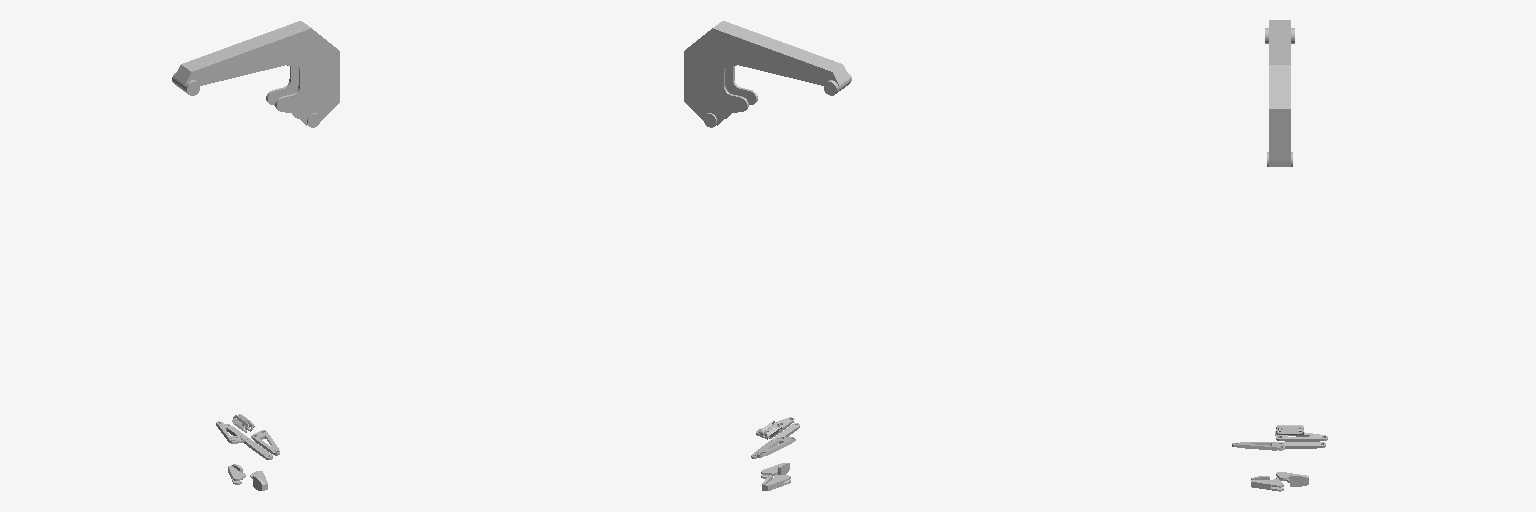
--- Facts derived from the render (not from the file) ---
3 views of the same robot in one strip: view 1: azimuth 30°, elevation 25°; view 2: azimuth 150°, elevation 25°; view 3: azimuth 270°, elevation 25° (orthographic).
Robot: DoubleArmV7-Upper — 46 links, 45 joints (23 revolute, 8 continuous, 1 prismatic, 13 fixed); root link TFRAME; default pose: joints at zero except 1 at the middle of their limits (ARM = 1.6).
Links seen in each view (by area): view 1: MANIARM; view 2: MANIARM; view 3: MANIARM.
Link boxes in pixels (left/top/right/bottom): MANIARM: left=172, top=21, right=339, bottom=127; MANIARM: left=684, top=21, right=851, bottom=127; MANIARM: left=1265, top=20, right=1294, bottom=166.
Size in the robot's own frame: 0.701 by 0.37 by 1.92 metres.
9 mesh visuals loaded from 9 distinct referenced files (9 Collada DAE).

robot.urdf — DoubleArmV7-Upper:
<robot name="DoubleArmV7-Upper">
  <link name="MFRAME">
    <inertial>
      <mass value="1e-06" />
      <origin xyz="0 0 0" rpy="0 -0 0" />
      <inertia ixx="1.0" ixy="0.0" ixz="0.0" iyy="1.0" iyz="0.0" izz="1.0" />
    </inertial>
  </link>
  <link name="BLOCK">
    <inertial>
      <mass value="1e-06" />
      <origin xyz="0 0 0" rpy="0 -0 0" />
      <inertia ixx="1.0" ixy="0.0" ixz="0.0" iyy="1.0" iyz="0.0" izz="1.0" />
    </inertial>
  </link>
  <link name="BOOM">
    <inertial>
      <mass value="88.2695650987" />
      <origin xyz="-0.831227871921433 0.142962825496583 0.0" rpy="0 -0 0" />
      <inertia ixx="1.48138597730672" ixy="0.1902362002908" ixz="1.05546586084014e-15" iyy="31.4435403431583" iyz="-2.05305944696362e-17" izz="32.5752155940256" />
    </inertial>
    <collision>
      <origin xyz="0.0 0.0 0.0" rpy="1.57079632679 0.375245789179 -3.14159265359" />
      <geometry>
        <cylinder radius="0.05" length="0.116" />
      </geometry>
    </collision>
    <collision>
      <origin xyz="0.4186879055919116 -1.9907224074340133e-16 0.16492555202593392" rpy="1.13579022766e-16 -0.375245789179 3.14159265359" />
      <geometry>
        <box size="0.9 0.116 0.1" />
      </geometry>
    </collision>
    <collision>
      <origin xyz="0.40419402094470985 -2.1228539612808136e-16 0.1948991622161264" rpy="3.02966782347e-17 -0.449422282389 3.14159265359" />
      <geometry>
        <box size="0.895 0.116 0.1" />
      </geometry>
    </collision>
    <collision>
      <origin xyz="1.1879713766505169 -4.354270489073068e-16 0.18116085136942053" rpy="8.75683157457e-17 -0.296705972839 3.14159265359" />
      <geometry>
        <box size="0.899 0.116 0.09" />
      </geometry>
    </collision>
    <collision>
      <origin xyz="1.1953232786166952 -4.750760030961959e-16 0.22230935726550022" rpy="1.15686232084e-16 -0.381354441561 3.14159265359" />
      <geometry>
        <box size="0.92 0.116 0.09" />
      </geometry>
    </collision>
    <collision>
      <origin xyz="1.7600000000000025 -0.05325000000000048 2.3733810657253497e-16" rpy="1.57079632679 -0.296705972839 3.14159265359" />
      <geometry>
        <cylinder radius="0.04" length="0.0095" />
      </geometry>
    </collision>
    <collision>
      <origin xyz="1.6834956195229596 -0.05325000000000048 0.023389736377819183" rpy="8.75683157457e-17 -0.296705972839 3.14159265359" />
      <geometry>
        <box size="0.16 0.0095 0.08" />
      </geometry>
    </collision>
    <collision>
      <origin xyz="1.68568840730838 -0.053250000000000484 0.030562022047541958" rpy="1.16593465255e-16 -0.383972435439 3.14159265359" />
      <geometry>
        <box size="0.16 0.0095 0.08" />
      </geometry>
    </collision>
    <collision>
      <origin xyz="1.7600000000000025 0.05324999999999962 1.9373756672733388e-16" rpy="1.57079632679 -0.296705972839 3.14159265359" />
      <geometry>
        <cylinder radius="0.04" length="0.0095" />
      </geometry>
    </collision>
    <collision>
      <origin xyz="1.6834956195229596 0.05324999999999962 0.023389736377819142" rpy="8.75683157457e-17 -0.296705972839 3.14159265359" />
      <geometry>
        <box size="0.16 0.0095 0.08" />
      </geometry>
    </collision>
    <collision>
      <origin xyz="1.68568840730838 0.05324999999999961 0.030562022047541916" rpy="1.16593465255e-16 -0.383972435439 3.14159265359" />
      <geometry>
        <box size="0.16 0.0095 0.08" />
      </geometry>
    </collision>
  </link>
  <link name="ARM">
    <inertial>
      <mass value="53.7797060658" />
      <origin xyz="-0.133362844584537 0.0813367709948192 0.0" rpy="0 -0 0" />
      <inertia ixx="0.35420506763418" ixy="-0.59676584437886" ixz="1.78134245842626e-16" iyy="5.16579159038522" iyz="6.97110293472855e-17" izz="5.39850890239257" />
    </inertial>
    <collision>
      <origin xyz="-0.24300000000000033 -1.5533242026099217e-17 0.08450000000000005" rpy="1.57079632679 -0.336848545635 3.14159265359" />
      <geometry>
        <cylinder radius="0.0296" length="0.083" />
      </geometry>
    </collision>
    <collision>
      <origin xyz="-0.11936207534259712 -7.359996381010075e-18 0.04120261455456779" rpy="2.17510348387e-17 -0.336848545635 3.14159265359" />
      <geometry>
        <box size="0.262 0.083 0.0592" />
      </geometry>
    </collision>
    <collision>
      <origin xyz="-0.09103700321555463 -6.195145466645663e-17 0.09485604211514259" rpy="2.17510348387e-17 -0.336848545635 3.14159265359" />
      <geometry>
        <box size="0.14 0.083 0.07" />
      </geometry>
    </collision>
    <collision>
      <origin xyz="-0.09112686398426773 -1.2057425648815144e-16 0.16088422976470257" rpy="1.46430338297e-16 -0.466002910282 3.14159265359" />
      <geometry>
        <box size="0.34 0.083 0.0592" />
      </geometry>
    </collision>
    <collision>
      <origin xyz="0.05700000000000005 -2.233934448755695e-16 0.23580000000000023" rpy="1.57079632679 -1.02101761242 3.14159265359" />
      <geometry>
        <cylinder radius="0.0296" length="0.083" />
      </geometry>
    </collision>
    <collision>
      <origin xyz="0.03581365767610803 -1.1292183821525238e-16 0.11726250003085589" rpy="1.14524417827e-16 -1.02101761242 3.14159265359" />
      <geometry>
        <box size="0.18 0.083 0.2192" />
      </geometry>
    </collision>
    <collision>
      <origin xyz="0.47950000000000065 -1.174436280382313e-16 5.898059818321144e-17" rpy="0.0 -0.0 3.14159265359" />
      <geometry>
        <box size="0.971 0.083 0.06" />
      </geometry>
    </collision>
    <collision>
      <origin xyz="0.12400000000000017 -6.589837740685943e-17 0.04000000000000006" rpy="0.0 -0.0 3.14159265359" />
      <geometry>
        <box size="0.4 0.083 0.06" />
      </geometry>
    </collision>
    <collision>
      <origin xyz="0.9650000000000013 -2.363568322354394e-16 1.1817841611771973e-16" rpy="1.57079632679 -0.0872664625993 3.14159265359" />
      <geometry>
        <cylinder radius="0.03" length="0.083" />
      </geometry>
    </collision>
    <collision>
      <origin xyz="0.4813474740764582 -1.5547861078879205e-16 0.04231411310398813" rpy="-1.40826537065e-17 -0.0872664625997 -3.14159265359" />
      <geometry>
        <box size="0.971 0.083 0.06" />
      </geometry>
    </collision>
  </link>
  <link name="TOHKU_PITCH">
    <inertial>
      <mass value="1e-06" />
      <origin xyz="0 0 0" rpy="0 -0 0" />
      <inertia ixx="1.0" ixy="0.0" ixz="0.0" iyy="1.0" iyz="0.0" izz="1.0" />
    </inertial>
  </link>
  <link name="TOHKU_ROLL">
    <inertial>
      <mass value="1e-06" />
      <origin xyz="0 0 0" rpy="0 -0 0" />
      <inertia ixx="1.0" ixy="0.0" ixz="0.0" iyy="1.0" iyz="0.0" izz="1.0" />
    </inertial>
  </link>
  <link name="TOHKU_TIP_01">
    <inertial>
      <mass value="1e-06" />
      <origin xyz="0 0 0" rpy="0 -0 0" />
      <inertia ixx="1.0" ixy="0.0" ixz="0.0" iyy="1.0" iyz="0.0" izz="1.0" />
    </inertial>
  </link>
  <link name="TOHKU_TIP_02">
    <inertial>
      <mass value="1e-06" />
      <origin xyz="0 0 0" rpy="0 -0 0" />
      <inertia ixx="1.0" ixy="0.0" ixz="0.0" iyy="1.0" iyz="0.0" izz="1.0" />
    </inertial>
  </link>
  <link name="UFRAME">
    <inertial>
      <mass value="1e-06" />
      <origin xyz="0 0 0" rpy="0 -0 0" />
      <inertia ixx="1.0" ixy="0.0" ixz="0.0" iyy="1.0" iyz="0.0" izz="1.0" />
    </inertial>
  </link>
  <link name="MNP_SWING">
    <inertial>
      <mass value="1e-06" />
      <origin xyz="0 0 0" rpy="0 -0 0" />
      <inertia ixx="1.0" ixy="0.0" ixz="0.0" iyy="1.0" iyz="0.0" izz="1.0" />
    </inertial>
  </link>
  <link name="MANIBOOM">
    <inertial>
      <mass value="36.291074" />
      <origin xyz="-0.7599574 0.016703571 0.0" rpy="0 -0 0" />
      <inertia ixx="0.11028539" ixy="0.04398908" ixz="0.0" iyy="7.0046174" iyz="0.0" izz="6.9737013" />
    </inertial>
    <collision>
      <origin xyz="0.0 0.0 0.0" rpy="3.14159265359 1.22464679915e-16 3.14159265359" />
      <geometry>
        <cylinder radius="0.035" length="0.18" />
      </geometry>
    </collision>
    <collision>
      <origin xyz="0.09360186960740366 0.41357191636521845 -3.813787642366294e-16" rpy="1.57079632679 -9.74498259865e-14 2.93128047872" />
      <geometry>
        <box size="0.07 0.115 0.849" />
      </geometry>
    </collision>
    <collision>
      <origin xyz="0.13449564031850803 1.0875085889329599 -9.917384094630197e-16" rpy="1.57079632679 1.72251102271e-13 -2.98887634404" />
      <geometry>
        <box size="0.08 0.115 0.55" />
      </geometry>
    </collision>
    <collision>
      <origin xyz="0.017373789739834413 0.22015174637071627 -1.997831702439419e-16" rpy="1.57079632679 -1.69711467102e-13 2.97578637465" />
      <geometry>
        <box size="0.03 0.115 0.4" />
      </geometry>
    </collision>
    <collision>
      <origin xyz="0.07702917045091942 0.5975639454389267 -5.452515119623752e-16" rpy="1.57079632679 -1.69681976803e-12 3.08923277603" />
      <geometry>
        <box size="0.08 0.115 0.5" />
      </geometry>
    </collision>
    <collision>
      <origin xyz="0.0860000000000008 1.0775000000000017 -9.779052824825384e-16" rpy="1.57079632679 1.34266957257e-15 3.14159265359" />
      <geometry>
        <box size="0.08 0.115 0.575" />
      </geometry>
    </collision>
    <collision>
      <origin xyz="0.13600000000000073 0.7900000000000013 -7.242432995517537e-16" rpy="1.57079632679 1.34266957257e-15 3.14159265359" />
      <geometry>
        <box size="0.05 0.115 0.2" />
      </geometry>
    </collision>
    <collision>
      <origin xyz="0.01300000000000049 0.8170000000000014 -0.05125000000000081" rpy="3.14159265359 1.22464679915e-16 3.14159265359" />
      <geometry>
        <cylinder radius="0.05" length="0.0125" />
      </geometry>
    </collision>
    <collision>
      <origin xyz="-0.011999999999999594 0.7480000000000013 -0.051250000000000746" rpy="3.14159265359 1.22464679915e-16 3.14159265359" />
      <geometry>
        <cylinder radius="0.045" length="0.0125" />
      </geometry>
    </collision>
    <collision>
      <origin xyz="0.03600000000000049 0.7250000000000013 -0.051250000000000726" rpy="1.57079632679 1.08801856413e-14 -2.53072741539" />
      <geometry>
        <box size="0.08 0.0125 0.15" />
      </geometry>
    </collision>
    <collision>
      <origin xyz="0.04600000000000061 0.9000000000000016 -0.051250000000000885" rpy="1.57079632679 -1.54140589181e-13 2.96705972839" />
      <geometry>
        <box size="0.04 0.0125 0.15" />
      </geometry>
    </collision>
    <collision>
      <origin xyz="-0.0269999999999996 0.7900000000000014 -0.05125000000000078" rpy="1.57079632679 -9.51877465738e-14 2.91469985083" />
      <geometry>
        <box size="0.02 0.0125 0.03" />
      </geometry>
    </collision>
    <collision>
      <origin xyz="0.01300000000000049 0.8170000000000012 0.05124999999999934" rpy="3.14159265359 1.22464679915e-16 3.14159265359" />
      <geometry>
        <cylinder radius="0.05" length="0.0125" />
      </geometry>
    </collision>
    <collision>
      <origin xyz="-0.011999999999999594 0.7480000000000011 0.0512499999999994" rpy="3.14159265359 1.22464679915e-16 3.14159265359" />
      <geometry>
        <cylinder radius="0.045" length="0.0125" />
      </geometry>
    </collision>
    <collision>
      <origin xyz="0.03600000000000049 0.7250000000000011 0.05124999999999942" rpy="1.57079632679 1.08801856413e-14 -2.53072741539" />
      <geometry>
        <box size="0.08 0.0125 0.15" />
      </geometry>
    </collision>
    <collision>
      <origin xyz="0.04600000000000061 0.9000000000000014 0.05124999999999926" rpy="1.57079632679 -1.54140589181e-13 2.96705972839" />
      <geometry>
        <box size="0.04 0.0125 0.15" />
      </geometry>
    </collision>
    <collision>
      <origin xyz="-0.0269999999999996 0.7900000000000011 0.051249999999999366" rpy="1.57079632679 -9.51877465738e-14 2.91469985083" />
      <geometry>
        <box size="0.02 0.0125 0.03" />
      </geometry>
    </collision>
    <collision>
      <origin xyz="0.08000000000000103 1.4800000000000024 -0.060000000000001434" rpy="3.14159265359 1.22464679915e-16 3.14159265359" />
      <geometry>
        <cylinder radius="0.035" length="0.014" />
      </geometry>
    </collision>
    <collision>
      <origin xyz="0.09275648678445134 1.4111721564705255 -0.06000000000000137" rpy="1.57079632679 1.36016198304e-13 -2.95833308213" />
      <geometry>
        <box size="0.07 0.014 0.14" />
      </geometry>
    </collision>
    <collision>
      <origin xyz="0.07755703523082591 1.4100426421086656 -0.06000000000000137" rpy="1.57079632679 -3.49884704542e-12 3.10668606855" />
      <geometry>
        <box size="0.07 0.014 0.14" />
      </geometry>
    </collision>
    <collision>
      <origin xyz="0.09050000000000097 1.340000000000002 -0.06000000000000131" rpy="1.57079632679 6.59507171097e-13 -3.06305283725" />
      <geometry>
        <box size="0.0995 0.014 0.02" />
      </geometry>
    </collision>
    <collision>
      <origin xyz="0.08000000000000103 1.4800000000000024 -0.05000000000000142" rpy="3.14159265359 1.22464679915e-16 3.14159265359" />
      <geometry>
        <cylinder radius="0.03" length="0.004" />
      </geometry>
    </collision>
    <collision>
      <origin xyz="0.08000000000000103 1.4800000000000022 0.05999999999999875" rpy="3.14159265359 1.22464679915e-16 3.14159265359" />
      <geometry>
        <cylinder radius="0.035" length="0.014" />
      </geometry>
    </collision>
    <collision>
      <origin xyz="0.09275648678445134 1.4111721564705253 0.05999999999999881" rpy="1.57079632679 1.36016198304e-13 -2.95833308213" />
      <geometry>
        <box size="0.07 0.014 0.14" />
      </geometry>
    </collision>
    <collision>
      <origin xyz="0.07755703523082591 1.4100426421086654 0.05999999999999881" rpy="1.57079632679 -3.49884704542e-12 3.10668606855" />
      <geometry>
        <box size="0.07 0.014 0.14" />
      </geometry>
    </collision>
    <collision>
      <origin xyz="0.09050000000000097 1.340000000000002 0.059999999999998874" rpy="1.57079632679 6.59507171097e-13 -3.06305283725" />
      <geometry>
        <box size="0.0995 0.014 0.02" />
      </geometry>
    </collision>
    <collision>
      <origin xyz="0.08000000000000103 1.4800000000000022 0.04999999999999874" rpy="3.14159265359 1.22464679915e-16 3.14159265359" />
      <geometry>
        <cylinder radius="0.03" length="0.004" />
      </geometry>
    </collision>
  </link>
  <link name="MANIARM">
    <inertial>
      <mass value="28.673428" />
      <origin xyz="-0.18264981 0.17411666 0.0" rpy="0 -0 0" />
      <inertia ixx="0.19152986" ixy="0.11443044" ixz="0.0" iyy="0.79632756" iyz="0.0" izz="0.81910511" />
    </inertial>
    <visual>
      <origin xyz="0.0 0.0 0.0" rpy="7.8859849469e-16 9.95799250103e-17 -1.57079632679" />
      <geometry>
        <mesh filename="DoubleArmV7-Upper-MANIARM-visual-0.dae" scale="1.0000000000000013 1.000000000000002 1.0000000000000016" />
      </geometry>
    </visual>
  </link>
  <link name="MANIELBOW">
    <inertial>
      <mass value="1e-06" />
      <origin xyz="0 0 0" rpy="0 -0 0" />
      <inertia ixx="1.0" ixy="0.0" ixz="0.0" iyy="1.0" iyz="0.0" izz="1.0" />
    </inertial>
  </link>
  <link name="YAWJOINT">
    <inertial>
      <mass value="1e-06" />
      <origin xyz="0 0 0" rpy="0 -0 0" />
      <inertia ixx="1.0" ixy="0.0" ixz="0.0" iyy="1.0" iyz="0.0" izz="1.0" />
    </inertial>
  </link>
  <link name="HANDBASE">
    <inertial>
      <mass value="1e-06" />
      <origin xyz="0 0 0" rpy="0 -0 0" />
      <inertia ixx="1.0" ixy="0.0" ixz="0.0" iyy="1.0" iyz="0.0" izz="1.0" />
    </inertial>
  </link>
  <link name="PUSHROD">
    <inertial>
      <mass value="1e-06" />
      <origin xyz="0 0 0" rpy="0 -0 0" />
      <inertia ixx="1.0" ixy="0.0" ixz="0.0" iyy="1.0" iyz="0.0" izz="1.0" />
    </inertial>
  </link>
  <link name="HANDSLNK_I">
    <inertial>
      <mass value="0.408083" />
      <origin xyz="0.0530198 0.0 0.0" rpy="0 -0 0" />
      <inertia ixx="0.000186599" ixy="0.0" ixz="0.0" iyy="0.000536909" iyz="0.0" izz="0.000414755" />
    </inertial>
    <visual>
      <origin xyz="0.0 0.0 0.0" rpy="-1.35515238445e-15 -1.57079632679 0.0" />
      <geometry>
        <mesh filename="DoubleArmV7-Upper-HANDSLNK_I-visual-0.dae" scale="1.000000000000002 1.0000000000000016 1.0000000000000022" />
      </geometry>
    </visual>
    <collision>
      <origin xyz="-4.898587196589429e-18 -4.839211798541819e-17 0.040000000000000084" rpy="-1.35515238445e-15 -1.57079632679 0.0" />
      <geometry>
        <box size="0.08 0.028 0.028" />
      </geometry>
    </collision>
    <collision>
      <origin xyz="0.0 0.0 0.0" rpy="3.14159265359 -1.57079632679 0.0" />
      <geometry>
        <cylinder radius="0.014" length="0.028" />
      </geometry>
    </collision>
    <collision>
      <origin xyz="-9.797174393178858e-18 -9.678423597083638e-17 0.08000000000000017" rpy="3.14159265359 -1.57079632679 0.0" />
      <geometry>
        <cylinder radius="0.014" length="0.028" />
      </geometry>
    </collision>
  </link>
  <link name="HANDSLNK_O">
    <inertial>
      <mass value="0.408083" />
      <origin xyz="0.053019776 0.0 0.0" rpy="0 -0 0" />
      <inertia ixx="0.000267073" ixy="6.95893e-10" ixz="0.0" iyy="0.000617382" iyz="0.0" izz="0.000414755" />
    </inertial>
    <visual>
      <origin xyz="0.0 0.0 0.0" rpy="-1.35515238445e-15 -1.57079632679 0.0" />
      <geometry>
        <mesh filename="DoubleArmV7-Upper-HANDSLNK_O-visual-0.dae" scale="1.000000000000002 1.0000000000000016 1.0000000000000022" />
      </geometry>
    </visual>
    <collision>
      <origin xyz="-4.898587196589429e-18 -4.839211798541819e-17 0.040000000000000084" rpy="-1.35515238445e-15 -1.57079632679 0.0" />
      <geometry>
        <box size="0.08 0.028 0.042" />
      </geometry>
    </collision>
    <collision>
      <origin xyz="0.0 0.0 0.0" rpy="3.14159265359 -1.57079632679 0.0" />
      <geometry>
        <cylinder radius="0.014" length="0.042" />
      </geometry>
    </collision>
    <collision>
      <origin xyz="-9.797174393178858e-18 -9.678423597083638e-17 0.08000000000000017" rpy="3.14159265359 -1.57079632679 0.0" />
      <geometry>
        <cylinder radius="0.014" length="0.042" />
      </geometry>
    </collision>
  </link>
  <link name="MANIFNG_U">
    <inertial>
      <mass value="1.32092" />
      <origin xyz="0.0778883 0.0150494 0.0" rpy="0 -0 0" />
      <inertia ixx="0.00159768" ixy="0.000329267" ixz="3.30872e-24" iyy="0.00595697" iyz="1.03398e-25" izz="0.00524922" />
    </inertial>
    <visual>
      <origin xyz="0.0 0.0 0.0" rpy="-1.35515238445e-15 -1.57079632679 0.0" />
      <geometry>
        <mesh filename="DoubleArmV7-Upper-MANIFNG_U-visual-0.dae" scale="1.000000000000002 1.0000000000000016 1.0000000000000022" />
      </geometry>
    </visual>
    <collision>
      <origin xyz="-9.290924956704857e-18 0.002049999999999898 0.08740000000000019" rpy="-1.35515238445e-15 -1.57079632679 0.0" />
      <geometry>
        <box size="0.1352 0.0321 0.014" />
      </geometry>
    </collision>
    <collision>
      <origin xyz="4.073536366171241e-18 0.020139999999999936 0.08005000000000015" rpy="1.57079632679 0.228638132011 -1.57079632679" />
      <geometry>
        <box size="0.03 0.146923 0.014" />
      </geometry>
    </collision>
    <collision>
      <origin xyz="4.630852206935045e-18 0.01060699999999999 0.02186400000000004" rpy="-1.57079632679 -1.45054314133 1.57079632679" />
      <geometry>
        <box size="0.01 0.048364 0.014" />
      </geometry>
    </collision>
    <collision>
      <origin xyz="-3.980721077865497e-18 -0.004000000000000018 0.010000000000000024" rpy="-1.35515238445e-15 -1.57079632679 0.0" />
      <geometry>
        <box size="0.02 0.02 0.01" />
      </geometry>
    </collision>
    <collision>
      <origin xyz="2.946848187471265e-17 0.043262000000000064 0.0027749999999999715" rpy="-1.57079632679 -0.229510796637 1.57079632679" />
      <geometry>
        <box size="0.02 0.014069 0.01" />
      </geometry>
    </collision>
    <collision>
      <origin xyz="1.42939772363593e-17 0.02091800000000003 0.0009709999999999854" rpy="-1.57079632679 -1.44949594378 1.57079632679" />
      <geometry>
        <box size="0.035 0.041304 0.01" />
      </geometry>
    </collision>
    <collision>
      <origin xyz="0.0 0.0 0.0" rpy="3.14159265359 -1.57079632679 0.0" />
      <geometry>
        <cylinder radius="0.014" length="0.01" />
      </geometry>
    </collision>
    <collision>
      <origin xyz="2.886208475643461e-17 0.04100000000000007 -0.005000000000000043" rpy="3.14159265359 -1.57079632679 0.0" />
      <geometry>
        <cylinder radius="0.014" length="0.01" />
      </geometry>
    </collision>
    <collision>
      <origin xyz="-2.0941460265419807e-17 -2.0687630438766277e-16 0.17100000000000035" rpy="3.14159265359 -1.57079632679 0.0" />
      <geometry>
        <cylinder radius="0.014" length="0.01" />
      </geometry>
    </collision>
    <collision>
      <origin xyz="-2.271781710482006e-17 -0.004000000000000204 0.16300000000000034" rpy="-1.35515238445e-15 -1.57079632679 0.0" />
      <geometry>
        <box size="0.016 0.02 0.01" />
      </geometry>
    </collision>
    <collision>
      <origin xyz="-1.5665562379379394e-17 0.006113999999999813 0.16231800000000032" rpy="-1.57079632679 -0.230208928338 1.57079632679" />
      <geometry>
        <box size="0.01972 0.02 0.01" />
      </geometry>
    </collision>
  </link>
  <link name="HANDTIP_U">
    <inertial>
      <mass value="1.62187" />
      <origin xyz="0.0581795 -0.0268036 0.0" rpy="0 -0 0" />
      <inertia ixx="0.00272616" ixy="0.000478886" ixz="-4.96308e-24" iyy="0.00389972" iyz="1.03398e-24" izz="0.00225372" />
    </inertial>
    <visual>
      <origin xyz="0.0 0.0 0.0" rpy="-1.35515238445e-15 -1.57079632679 0.0" />
      <geometry>
        <mesh filename="DoubleArmV7-Upper-HANDTIP_U-visual-0.dae" scale="1.000000000000002 1.0000000000000016 1.0000000000000022" />
      </geometry>
    </visual>
    <collision>
      <origin xyz="-3.7052374461209995e-17 -0.04400000000000013 0.055000000000000146" rpy="-1.35515238445e-15 -1.57079632679 0.0" />
      <geometry>
        <box size="0.03 0.012 0.05" />
      </geometry>
    </collision>
    <collision>
      <origin xyz="-3.950166805950471e-17 -0.04400000000000016 0.07500000000000019" rpy="-1.35515238445e-15 -1.57079632679 0.0" />
      <geometry>
        <box size="0.07 0.012 0.026" />
      </geometry>
    </collision>
    <collision>
      <origin xyz="0.013039999999999986 -0.0440000000000002 0.10745800000000025" rpy="6.21189106329e-16 -0.921010246277 -1.34623219215e-15" />
      <geometry>
        <box size="0.004 0.012 0.00314" />
      </geometry>
    </collision>
    <collision>
      <origin xyz="-0.013040000000000072 -0.0440000000000002 0.10745800000000025" rpy="3.14159265359 -0.921010246277 3.14159265359" />
      <geometry>
        <box size="0.004 0.012 0.00314" />
      </geometry>
    </collision>
    <collision>
      <origin xyz="-0.010547000000000065 -0.04400000000000017 0.08663100000000021" rpy="3.14159265359 -0.244346095279 3.14159265359" />
      <geometry>
        <box size="0.02 0.012 0.039267" />
      </geometry>
    </collision>
    <collision>
      <origin xyz="0.010546999999999983 -0.04400000000000017 0.08663100000000021" rpy="2.59196958862e-16 -0.244346095279 -5.41343503838e-16" />
      <geometry>
        <box size="0.02 0.012 0.039267" />
      </geometry>
    </collision>
    <collision>
      <origin xyz="-2.9771290989129414e-17 -0.030500000000000135 0.07150000000000016" rpy="-1.35515238445e-15 -1.57079632679 0.0" />
      <geometry>
        <box size="0.077 0.015 0.024" />
      </geometry>
    </collision>
    <collision>
      <origin xyz="-1.8631721582818766e-17 -0.01765000000000009 0.05283600000000012" rpy="-1.57079632679 -0.339641072438 1.57079632679" />
      <geometry>
        <box size="0.028 0.111362 0.024" />
      </geometry>
    </collision>
    <collision>
      <origin xyz="-2.1586849842862082e-17 -0.027011000000000073 0.02429900000000007" rpy="1.57079632679 -0.621511746635 -1.57079632679" />
      <geometry>
        <box size="0.028 0.018572 0.024" />
      </geometry>
    </collision>
    <collision>
      <origin xyz="-1.2205878565916645e-17 -0.01736100000000003 0.001991000000000018" rpy="-1.57079632679 -1.16587994033 1.57079632679" />
      <geometry>
        <box size="0.02 0.033509 0.024" />
      </geometry>
    </collision>
    <collision>
      <origin xyz="-2.250752728910708e-17 -0.030000000000000065 0.015000000000000053" rpy="3.14159265359 -1.57079632679 0.0" />
      <geometry>
        <cylinder radius="0.017" length="0.024" />
      </geometry>
    </collision>
    <collision>
      <origin xyz="0.0 0.0 0.0" rpy="3.14159265359 -1.57079632679 0.0" />
      <geometry>
        <cylinder radius="0.015" length="0.024" />
      </geometry>
    </collision>
  </link>
  <link name="HANDLNK_I">
    <inertial>
      <mass value="0.732866" />
      <origin xyz="0.0921655 -0.00204929 0.0" rpy="0 -0 0" />
      <inertia ixx="0.000257575" ixy="5.00832e-06" ixz="0.0" iyy="0.00268959" iyz="0.0" izz="0.00253442" />
    </inertial>
    <visual>
      <origin xyz="0.0 0.0 0.0" rpy="-1.35515238445e-15 -1.57079632679 0.0" />
      <geometry>
        <mesh filename="DoubleArmV7-Upper-HANDLNK_I-visual-0.dae" scale="1.000000000000002 1.0000000000000016 1.0000000000000022" />
      </geometry>
    </visual>
    <collision>
      <origin xyz="-1.0470730132709904e-17 -1.0343815219383138e-16 0.08550000000000017" rpy="-1.35515238445e-15 -1.57079632679 0.0" />
      <geometry>
        <box size="0.131 0.028 0.014" />
      </geometry>
    </collision>
    <collision>
      <origin xyz="0.0 0.0 0.0" rpy="3.14159265359 -1.57079632679 0.0" />
      <geometry>
        <cylinder radius="0.014" length="0.01" />
      </geometry>
    </collision>
    <collision>
      <origin xyz="-2.0941460265419807e-17 -2.0687630438766277e-16 0.17100000000000035" rpy="3.14159265359 -1.57079632679 0.0" />
      <geometry>
        <cylinder radius="0.014" length="0.01" />
      </geometry>
    </collision>
    <collision>
      <origin xyz="-1.2246467991473572e-18 -1.2098029496354548e-17 0.010000000000000021" rpy="-1.35515238445e-15 -1.57079632679 0.0" />
      <geometry>
        <box size="0.02 0.028 0.01" />
      </geometry>
    </collision>
    <collision>
      <origin xyz="-1.971681346627245e-17 -1.947782748913082e-16 0.16100000000000034" rpy="-1.35515238445e-15 -1.57079632679 0.0" />
      <geometry>
        <box size="0.02 0.028 0.01" />
      </geometry>
    </collision>
  </link>
  <link name="MANIFNG_L">
    <inertial>
      <mass value="1.32092" />
      <origin xyz="0.0778883 0.0150494 0.0" rpy="0 -0 0" />
      <inertia ixx="0.00159768" ixy="0.000329267" ixz="0.0" iyy="0.00595697" iyz="0.0" izz="0.00524922" />
    </inertial>
    <visual>
      <origin xyz="0.0 0.0 0.0" rpy="-1.35515238445e-15 -1.57079632679 0.0" />
      <geometry>
        <mesh filename="DoubleArmV7-Upper-MANIFNG_L-visual-0.dae" scale="1.000000000000002 1.0000000000000016 1.0000000000000022" />
      </geometry>
    </visual>
    <collision>
      <origin xyz="-9.290924956704857e-18 0.002049999999999898 0.08740000000000019" rpy="-1.35515238445e-15 -1.57079632679 0.0" />
      <geometry>
        <box size="0.1352 0.0321 0.014" />
      </geometry>
    </collision>
    <collision>
      <origin xyz="4.073536366171241e-18 0.020139999999999936 0.08005000000000015" rpy="1.57079632679 0.228638132011 -1.57079632679" />
      <geometry>
        <box size="0.03 0.146923 0.014" />
      </geometry>
    </collision>
    <collision>
      <origin xyz="4.630852206935045e-18 0.01060699999999999 0.02186400000000004" rpy="-1.57079632679 -1.45054314133 1.57079632679" />
      <geometry>
        <box size="0.01 0.048364 0.014" />
      </geometry>
    </collision>
    <collision>
      <origin xyz="-3.980721077865497e-18 -0.004000000000000018 0.010000000000000024" rpy="-1.35515238445e-15 -1.57079632679 0.0" />
      <geometry>
        <box size="0.02 0.02 0.01" />
      </geometry>
    </collision>
    <collision>
      <origin xyz="2.946848187471265e-17 0.043262000000000064 0.0027749999999999715" rpy="-1.57079632679 -0.229510796637 1.57079632679" />
      <geometry>
        <box size="0.02 0.014069 0.01" />
      </geometry>
    </collision>
    <collision>
      <origin xyz="1.42939772363593e-17 0.02091800000000003 0.0009709999999999854" rpy="-1.57079632679 -1.44949594378 1.57079632679" />
      <geometry>
        <box size="0.035 0.041304 0.01" />
      </geometry>
    </collision>
    <collision>
      <origin xyz="0.0 0.0 0.0" rpy="3.14159265359 -1.57079632679 0.0" />
      <geometry>
        <cylinder radius="0.014" length="0.01" />
      </geometry>
    </collision>
    <collision>
      <origin xyz="2.886208475643461e-17 0.04100000000000007 -0.005000000000000043" rpy="3.14159265359 -1.57079632679 0.0" />
      <geometry>
        <cylinder radius="0.014" length="0.01" />
      </geometry>
    </collision>
    <collision>
      <origin xyz="-2.0941460265419807e-17 -2.0687630438766277e-16 0.17100000000000035" rpy="3.14159265359 -1.57079632679 0.0" />
      <geometry>
        <cylinder radius="0.014" length="0.01" />
      </geometry>
    </collision>
    <collision>
      <origin xyz="-2.271781710482006e-17 -0.004000000000000204 0.16300000000000034" rpy="-1.35515238445e-15 -1.57079632679 0.0" />
      <geometry>
        <box size="0.016 0.02 0.01" />
      </geometry>
    </collision>
    <collision>
      <origin xyz="-1.5665562379379394e-17 0.006113999999999813 0.16231800000000032" rpy="-1.57079632679 -0.230208928338 1.57079632679" />
      <geometry>
        <box size="0.01972 0.02 0.01" />
      </geometry>
    </collision>
  </link>
  <link name="HANDTIP_L">
    <inertial>
      <mass value="1.62187" />
      <origin xyz="0.0581795 -0.0268036 0.0" rpy="0 -0 0" />
      <inertia ixx="0.00272616" ixy="0.000478886" ixz="0.0" iyy="0.00389972" iyz="0.0" izz="0.00225372" />
    </inertial>
    <visual>
      <origin xyz="0.0 0.0 0.0" rpy="-1.35515238445e-15 -1.57079632679 0.0" />
      <geometry>
        <mesh filename="DoubleArmV7-Upper-HANDTIP_L-visual-0.dae" scale="1.000000000000002 1.0000000000000016 1.0000000000000022" />
      </geometry>
    </visual>
    <collision>
      <origin xyz="-3.7052374461209995e-17 -0.04400000000000013 0.055000000000000146" rpy="-1.35515238445e-15 -1.57079632679 0.0" />
      <geometry>
        <box size="0.03 0.012 0.05" />
      </geometry>
    </collision>
    <collision>
      <origin xyz="-3.950166805950471e-17 -0.04400000000000016 0.07500000000000019" rpy="-1.35515238445e-15 -1.57079632679 0.0" />
      <geometry>
        <box size="0.07 0.012 0.026" />
      </geometry>
    </collision>
    <collision>
      <origin xyz="0.013039999999999986 -0.0440000000000002 0.10745800000000025" rpy="6.21189106329e-16 -0.921010246277 -1.34623219215e-15" />
      <geometry>
        <box size="0.004 0.012 0.00314" />
      </geometry>
    </collision>
    <collision>
      <origin xyz="-0.013040000000000072 -0.0440000000000002 0.10745800000000025" rpy="3.14159265359 -0.921010246277 3.14159265359" />
      <geometry>
        <box size="0.004 0.012 0.00314" />
      </geometry>
    </collision>
    <collision>
      <origin xyz="-0.010547000000000065 -0.04400000000000017 0.08663100000000021" rpy="3.14159265359 -0.244346095279 3.14159265359" />
      <geometry>
        <box size="0.02 0.012 0.039267" />
      </geometry>
    </collision>
    <collision>
      <origin xyz="0.010546999999999983 -0.04400000000000017 0.08663100000000021" rpy="2.59196958862e-16 -0.244346095279 -5.41343503838e-16" />
      <geometry>
        <box size="0.02 0.012 0.039267" />
      </geometry>
    </collision>
    <collision>
      <origin xyz="-2.9771290989129414e-17 -0.030500000000000135 0.07150000000000016" rpy="-1.35515238445e-15 -1.57079632679 0.0" />
      <geometry>
        <box size="0.077 0.015 0.024" />
      </geometry>
    </collision>
    <collision>
      <origin xyz="-1.8631721582818766e-17 -0.01765000000000009 0.05283600000000012" rpy="-1.57079632679 -0.339641072438 1.57079632679" />
      <geometry>
        <box size="0.028 0.111362 0.024" />
      </geometry>
    </collision>
    <collision>
      <origin xyz="-2.1586849842862082e-17 -0.027011000000000073 0.02429900000000007" rpy="1.57079632679 -0.621511746635 -1.57079632679" />
      <geometry>
        <box size="0.028 0.018572 0.024" />
      </geometry>
    </collision>
    <collision>
      <origin xyz="-1.2205878565916645e-17 -0.01736100000000003 0.001991000000000018" rpy="-1.57079632679 -1.16587994033 1.57079632679" />
      <geometry>
        <box size="0.02 0.033509 0.024" />
      </geometry>
    </collision>
    <collision>
      <origin xyz="-2.250752728910708e-17 -0.030000000000000065 0.015000000000000053" rpy="3.14159265359 -1.57079632679 0.0" />
      <geometry>
        <cylinder radius="0.017" length="0.024" />
      </geometry>
    </collision>
    <collision>
      <origin xyz="0.0 0.0 0.0" rpy="3.14159265359 -1.57079632679 0.0" />
      <geometry>
        <cylinder radius="0.015" length="0.024" />
      </geometry>
    </collision>
  </link>
  <link name="HANDLNK_O">
    <inertial>
      <mass value="0.871915" />
      <origin xyz="0.0928285 -0.00312308 1.58819e-22" rpy="0 -0 0" />
      <inertia ixx="0.000559832" ixy="-1.99551e-05" ixz="-1.65436e-24" iyy="0.00316998" iyz="3.61892e-25" izz="0.00272764" />
    </inertial>
    <visual>
      <origin xyz="0.0 0.0 0.0" rpy="-1.35515238445e-15 -1.57079632679 0.0" />
      <geometry>
        <mesh filename="DoubleArmV7-Upper-HANDLNK_O-visual-0.dae" scale="1.000000000000002 1.0000000000000016 1.0000000000000022" />
      </geometry>
    </visual>
    <collision>
      <origin xyz="-1.0470730132709904e-17 -1.0343815219383138e-16 0.08550000000000017" rpy="-1.35515238445e-15 -1.57079632679 0.0" />
      <geometry>
        <box size="0.131 0.028 0.014" />
      </geometry>
    </collision>
    <collision>
      <origin xyz="0.0 0.0 0.0" rpy="3.14159265359 -1.57079632679 0.0" />
      <geometry>
        <cylinder radius="0.014" length="0.01" />
      </geometry>
    </collision>
    <collision>
      <origin xyz="-2.0941460265419807e-17 -2.0687630438766277e-16 0.17100000000000035" rpy="3.14159265359 -1.57079632679 0.0" />
      <geometry>
        <cylinder radius="0.014" length="0.01" />
      </geometry>
    </collision>
    <collision>
      <origin xyz="-1.2246467991473572e-18 -1.2098029496354548e-17 0.010000000000000021" rpy="-1.35515238445e-15 -1.57079632679 0.0" />
      <geometry>
        <box size="0.02 0.028 0.01" />
      </geometry>
    </collision>
    <collision>
      <origin xyz="-1.971681346627245e-17 -1.947782748913082e-16 0.16100000000000034" rpy="-1.35515238445e-15 -1.57079632679 0.0" />
      <geometry>
        <box size="0.02 0.028 0.01" />
      </geometry>
    </collision>
  </link>
  <link name="WHEEL_L0">
    <inertial>
      <mass value="13.25" />
      <origin xyz="0.0 0.0 0.0" rpy="0 -0 0" />
      <inertia ixx="0.2015" ixy="0.0" ixz="0.0" iyy="0.265" iyz="0.0" izz="0.2015" />
    </inertial>
  </link>
  <link name="WHEEL_L1">
    <inertial>
      <mass value="13.25" />
      <origin xyz="0.0 0.0 0.0" rpy="0 -0 0" />
      <inertia ixx="0.2015" ixy="0.0" ixz="0.0" iyy="0.265" iyz="0.0" izz="0.2015" />
    </inertial>
  </link>
  <link name="WHEEL_L2">
    <inertial>
      <mass value="13.25" />
      <origin xyz="0.0 0.0 0.0" rpy="0 -0 0" />
      <inertia ixx="0.2015" ixy="0.0" ixz="0.0" iyy="0.265" iyz="0.0" izz="0.2015" />
    </inertial>
  </link>
  <link name="WHEEL_L3">
    <inertial>
      <mass value="13.25" />
      <origin xyz="0.0 0.0 0.0" rpy="0 -0 0" />
      <inertia ixx="0.2015" ixy="0.0" ixz="0.0" iyy="0.265" iyz="0.0" izz="0.2015" />
    </inertial>
  </link>
  <link name="WHEEL_R0">
    <inertial>
      <mass value="13.25" />
      <origin xyz="0.0 0.0 0.0" rpy="0 -0 0" />
      <inertia ixx="0.2015" ixy="0.0" ixz="0.0" iyy="0.265" iyz="0.0" izz="0.2015" />
    </inertial>
  </link>
  <link name="WHEEL_R1">
    <inertial>
      <mass value="13.25" />
      <origin xyz="0.0 0.0 0.0" rpy="0 -0 0" />
      <inertia ixx="0.2015" ixy="0.0" ixz="0.0" iyy="0.265" iyz="0.0" izz="0.2015" />
    </inertial>
  </link>
  <link name="WHEEL_R2">
    <inertial>
      <mass value="13.25" />
      <origin xyz="0.0 0.0 0.0" rpy="0 -0 0" />
      <inertia ixx="0.2015" ixy="0.0" ixz="0.0" iyy="0.265" iyz="0.0" izz="0.2015" />
    </inertial>
  </link>
  <link name="WHEEL_R3">
    <inertial>
      <mass value="13.25" />
      <origin xyz="0.0 0.0 0.0" rpy="0 -0 0" />
      <inertia ixx="0.2015" ixy="0.0" ixz="0.0" iyy="0.265" iyz="0.0" izz="0.2015" />
    </inertial>
  </link>
  <link name="WIRE_GUARD_L">
    <inertial>
      <mass value="0.1" />
      <origin xyz="0.0 0.0 0.0" rpy="0 -0 0" />
      <inertia ixx="0.001" ixy="0.0" ixz="0.0" iyy="0.001" iyz="0.0" izz="0.001" />
    </inertial>
    <collision>
      <origin xyz="0.0 0.0 0.0" rpy="0.0 -0.0 0.0" />
      <geometry>
        <box size="1.94 0.32 0.6" />
      </geometry>
    </collision>
  </link>
  <link name="WIRE_GUARD_R">
    <inertial>
      <mass value="0.1" />
      <origin xyz="0.0 0.0 0.0" rpy="0 -0 0" />
      <inertia ixx="0.001" ixy="0.0" ixz="0.0" iyy="0.001" iyz="0.0" izz="0.001" />
    </inertial>
    <collision>
      <origin xyz="0.0 0.0 0.0" rpy="0.0 -0.0 0.0" />
      <geometry>
        <box size="1.94 0.32 0.6" />
      </geometry>
    </collision>
  </link>
  <link name="TFRAME">
    <inertial>
      <mass value="1e-06" />
      <origin xyz="0 0 0" rpy="0 -0 0" />
      <inertia ixx="1.0" ixy="0.0" ixz="0.0" iyy="1.0" iyz="0.0" izz="1.0" />
    </inertial>
  </link>
  <joint name="MFRAME" type="revolute">
    <origin xyz="0.0 0.0 0.0" rpy="0.0 -0.0 0.0" />
    <axis xyz="0 0 1" />
    <parent link="TFRAME" />
    <child link="MFRAME" />
    <limit lower="-11.9991386075" upper="11.9991386075" effort="12000.0" velocity="180.0" />
  </joint>
  <joint name="BLOCK" type="revolute">
    <origin xyz="0.845 -0.11 0.192" rpy="0.0 -0.0 0.0" />
    <axis xyz="0 0 1" />
    <parent link="MFRAME" />
    <child link="BLOCK" />
    <limit lower="-0.837758040957" upper="1.21300383014" effort="12000.0" velocity="1146.0" />
  </joint>
  <joint name="BOOM" type="revolute">
    <origin xyz="0.0700000000000004 1.5265566588595902e-16 0.20000000000000012" rpy="1.57079632679 8.65956056235e-17 3.14159265359" />
    <axis xyz="0 0 1" />
    <parent link="BLOCK" />
    <child link="BOOM" />
    <limit lower="-1.31074226825" upper="0.928515162061" effort="15000.0" velocity="1146.0" />
  </joint>
  <joint name="ARM" type="revolute">
    <origin xyz="-1.7599999999999993 5.551115123125783e-16 -9.71445146547012e-17" rpy="0.0 -0.0 0.0" />
    <axis xyz="0 0 1" />
    <parent link="BOOM" />
    <child link="ARM" />
    <limit lower="0.535816080362" upper="2.65464579228" effort="12000.0" velocity="1146.0" />
  </joint>
  <joint name="TOHKU_PITCH" type="revolute">
    <origin xyz="-0.9649999999999999 1.6653345369377348e-16 -5.551115123125783e-17" rpy="1.57079632679 -1.11022302463e-16 1.57079632679" />
    <axis xyz="0 1 0" />
    <parent link="ARM" />
    <child link="TOHKU_PITCH" />
    <limit lower="-0.588175957922" upper="1.57079632679" effort="10000.0" velocity="5730.0" />
  </joint>
  <joint name="TOHKU_ROLL" type="revolute">
    <origin xyz="9.992007221626409e-16 1.3183898417423734e-15 -0.22699999999999942" rpy="0.0 -0.0 0.0" />
    <axis xyz="0 0 1" />
    <parent link="TOHKU_PITCH" />
    <child link="TOHKU_ROLL" />
    <limit lower="-3.14159265359" upper="3.14159265359" effort="10000.0" velocity="573.0" />
  </joint>
  <joint name="TOHKU_TIP_01" type="revolute">
    <origin xyz="9.992007221626409e-16 -7.077671781985373e-16 -0.3089999999999997" rpy="0.0 -0.0 0.0" />
    <axis xyz="0 1 0" />
    <parent link="TOHKU_ROLL" />
    <child link="TOHKU_TIP_01" />
    <limit lower="-0.349065850399" upper="0.0" effort="10000.0" velocity="573.0" />
  </joint>
  <joint name="TOHKU_TIP_02" type="revolute">
    <origin xyz="9.992007221626409e-16 -7.077671781985373e-16 -0.3089999999999997" rpy="0.0 -0.0 3.14159265359" />
    <axis xyz="0 1 0" />
    <parent link="TOHKU_ROLL" />
    <child link="TOHKU_TIP_02" />
    <limit lower="-0.349065850399" upper="0.0" effort="10000.0" velocity="573.0" />
  </joint>
  <joint name="UFRAME" type="revolute">
    <origin xyz="0.0 0.0 0.3" rpy="0.0 -0.0 3.14159265359" />
    <axis xyz="0 0 1" />
    <parent link="TFRAME" />
    <child link="UFRAME" />
    <limit lower="-11.9991386075" upper="11.9991386075" effort="12000.0" velocity="573.0" />
  </joint>
  <joint name="MNP_SWING" type="revolute">
    <origin xyz="0.5595 -0.13 0.11800000000000005" rpy="0.0 -0.0 0.0" />
    <axis xyz="0 0 1" />
    <parent link="UFRAME" />
    <child link="MNP_SWING" />
    <limit lower="-1.0471975512" upper="1.0471975512" effort="12000.0" velocity="1146.0" />
  </joint>
  <joint name="MANIBOOM" type="revolute">
    <origin xyz="0.07000000000000028 1.942890293094024e-16 0.1400000000000003" rpy="-1.57079632679 1.57079632679 0.0" />
    <axis xyz="0 0 1" />
    <parent link="MNP_SWING" />
    <child link="MANIBOOM" />
    <limit lower="0.0" upper="2.00712863979" effort="15000.0" velocity="573.0" />
  </joint>
  <joint name="MANIARM" type="revolute">
    <origin xyz="-1.4799999999999995 0.0800000000000003 -4.718447854656915e-16" rpy="0.0 -0.0 3.14159265359" />
    <axis xyz="0 0 1" />
    <parent link="MANIBOOM" />
    <child link="MANIARM" />
    <limit lower="-1.91986217719" upper="0.0" effort="12000.0" velocity="573.0" />
  </joint>
  <joint name="MANIELBOW" type="revolute">
    <origin xyz="-0.5499999999999989 0.27000000000000035 1.942890293094024e-16" rpy="1.57079632679 1.16573417586e-15 1.57079632679" />
    <axis xyz="0 1 0" />
    <parent link="MANIARM" />
    <child link="MANIELBOW" />
    <limit lower="-1.57079632679" upper="0.349065850399" effort="10000.0" velocity="573.0" />
  </joint>
  <joint name="YAWJOINT" type="revolute">
    <origin xyz="-4.440892098500626e-16 5.273559366969494e-16 -0.2300000000000002" rpy="0.0 -0.0 0.0" />
    <axis xyz="1 0 0" />
    <parent link="MANIELBOW" />
    <child link="YAWJOINT" />
    <limit lower="-0.881042206407" upper="0.881042206407" effort="10000.0" velocity="573.0" />
  </joint>
  <joint name="HANDBASE" type="revolute">
    <origin xyz="-4.440892098500626e-16 -2.7755575615628914e-17 -0.40529999999999977" rpy="0.0 -0.0 0.0" />
    <axis xyz="0 0 -1" />
    <parent link="YAWJOINT" />
    <child link="HANDBASE" />
    <limit lower="-4.71238898038" upper="4.71238898038" effort="8000.0" velocity="573.0" />
  </joint>
  <joint name="PUSHROD" type="prismatic">
    <origin xyz="-1.1102230246251565e-16 -2.7755575615628914e-17 -0.0917" rpy="0.0 -0.0 0.0" />
    <axis xyz="0 0 -1" />
    <parent link="HANDBASE" />
    <child link="PUSHROD" />
    <limit lower="-0.000884881930761" upper="0.0" effort="8000.0" velocity="573.0" />
  </joint>
  <joint name="HANDSLNK_I" type="revolute">
    <origin xyz="1.1102230246251565e-16 3.885780586188048e-16 1.1102230246251565e-16" rpy="-1.57079632679 0.502146933762 3.14159265359" />
    <axis xyz="0 0 1" />
    <parent link="PUSHROD" />
    <child link="HANDSLNK_I" />
    <limit lower="-3.00022098418" upper="3.00022098418" effort="100.0" velocity="573.0" />
  </joint>
  <joint name="HANDSLNK_O" type="revolute">
    <origin xyz="1.1102230246251565e-16 3.885780586188048e-16 1.1102230246251565e-16" rpy="1.57079632679 0.502146933762 1.89987128067e-16" />
    <axis xyz="0 0 1" />
    <parent link="PUSHROD" />
    <child link="HANDSLNK_O" />
    <limit lower="-3.00022098418" upper="3.00022098418" effort="100.0" velocity="573.0" />
  </joint>
  <joint name="MANIFNG_U" type="revolute">
    <origin xyz="0.029999999999999916 -2.7755575615628914e-17 -0.1399999999999999" rpy="1.57079632679 1.45266895236 4.23918814852e-15" />
    <axis xyz="0 0 1" />
    <parent link="HANDBASE" />
    <child link="MANIFNG_U" />
    <limit lower="-3.00022098418" upper="3.00022098418" effort="100.0" velocity="573.0" />
  </joint>
  <joint name="HANDTIP_U" type="revolute">
    <origin xyz="0.1710000000000006 -2.220446049250313e-16 -3.885780586188048e-16" rpy="-3.54187949632e-16 -1.17224040023e-16 -0.118127374433" />
    <axis xyz="0 0 1" />
    <parent link="MANIFNG_U" />
    <child link="HANDTIP_U" />
    <limit lower="-3.00022098418" upper="3.00022098418" effort="100.0" velocity="573.0" />
  </joint>
  <joint name="HANDLNK_I" type="revolute">
    <origin xyz="-1.1102230246251565e-16 0.006499999999999978 -0.15499999999999992" rpy="1.57079632679 1.45266895236 4.23918814852e-15" />
    <axis xyz="0 0 1" />
    <parent link="HANDBASE" />
    <child link="HANDLNK_I" />
    <limit lower="-3.00022098418" upper="3.00022098418" effort="100.0" velocity="573.0" />
  </joint>
  <joint name="MANIFNG_L" type="revolute">
    <origin xyz="-0.030000000000000027 0.0 -0.1399999999999999" rpy="1.57079632679 1.45266922743 3.14159265359" />
    <parent link="HANDBASE" />
    <child link="MANIFNG_L" />
    <limit lower="-3.00022098418" upper="3.00022098418" effort="100.0" velocity="573.0" />
  </joint>
  <joint name="HANDTIP_L" type="revolute">
    <origin xyz="0.17099999999999982 4.440892098500626e-16 3.0531133177191805e-16" rpy="-9.18211105227e-19 9.17549819597e-17 -0.118127374433" />
    <parent link="MANIFNG_L" />
    <child link="HANDTIP_L" />
    <limit lower="-3.00022098418" upper="3.00022098418" effort="100.0" velocity="573.0" />
  </joint>
  <joint name="HANDLNK_O" type="revolute">
    <origin xyz="-1.1102230246251565e-16 -0.0065000000000000335 -0.15499999999999992" rpy="1.57079632679 1.45266922743 3.14159265359" />
    <parent link="HANDBASE" />
    <child link="HANDLNK_O" />
    <limit lower="-3.00022098418" upper="3.00022098418" effort="100.0" velocity="573.0" />
  </joint>
  <joint name="WHEEL_L0" type="continuous">
    <origin xyz="0.74 0.6 -0.295" rpy="0.0 -0.0 0.0" />
    <axis xyz="0 1 0" />
    <parent link="TFRAME" />
    <child link="WHEEL_L0" />
  </joint>
  <joint name="WHEEL_L1" type="continuous">
    <origin xyz="0.26 0.6 -0.295" rpy="0.0 -0.0 0.0" />
    <axis xyz="0 1 0" />
    <parent link="TFRAME" />
    <child link="WHEEL_L1" />
  </joint>
  <joint name="WHEEL_L2" type="continuous">
    <origin xyz="-0.22 0.6 -0.295" rpy="0.0 -0.0 0.0" />
    <axis xyz="0 1 0" />
    <parent link="TFRAME" />
    <child link="WHEEL_L2" />
  </joint>
  <joint name="WHEEL_L3" type="continuous">
    <origin xyz="-0.7 0.6 -0.295" rpy="0.0 -0.0 0.0" />
    <axis xyz="0 1 0" />
    <parent link="TFRAME" />
    <child link="WHEEL_L3" />
  </joint>
  <joint name="WHEEL_R0" type="continuous">
    <origin xyz="0.74 -0.6 -0.295" rpy="0.0 -0.0 0.0" />
    <axis xyz="0 1 0" />
    <parent link="TFRAME" />
    <child link="WHEEL_R0" />
  </joint>
  <joint name="WHEEL_R1" type="continuous">
    <origin xyz="0.26 -0.6 -0.295" rpy="0.0 -0.0 0.0" />
    <axis xyz="0 1 0" />
    <parent link="TFRAME" />
    <child link="WHEEL_R1" />
  </joint>
  <joint name="WHEEL_R2" type="continuous">
    <origin xyz="-0.22 -0.6 -0.295" rpy="0.0 -0.0 0.0" />
    <axis xyz="0 1 0" />
    <parent link="TFRAME" />
    <child link="WHEEL_R2" />
  </joint>
  <joint name="WHEEL_R3" type="continuous">
    <origin xyz="-0.7 -0.6 -0.295" rpy="0.0 -0.0 0.0" />
    <axis xyz="0 1 0" />
    <parent link="TFRAME" />
    <child link="WHEEL_R3" />
  </joint>
  <joint name="WIRE_GUARD_L" type="fixed">
    <origin xyz="0.02 0.61 -0.32" rpy="0.0 -0.0 0.0" />
    <parent link="TFRAME" />
    <child link="WIRE_GUARD_L" />
  </joint>
  <joint name="WIRE_GUARD_R" type="fixed">
    <origin xyz="0.02 -0.61 -0.32" rpy="0.0 -0.0 0.0" />
    <parent link="TFRAME" />
    <child link="WIRE_GUARD_R" />
  </joint>
  <link name="SWING_TORQUE">
  </link>
  <joint name="SWING_TORQUE_JOINT" type="fixed">
    <origin xyz="0.0 0.0 0.0" rpy="0.0 -0.0 0.0" />
    <parent link="BLOCK" />
    <child link="SWING_TORQUE" />
  </joint>
  <sensor name="SWING_TORQUE_SENSOR" update_rate="20">
    <origin xyz="0.0 0.0 0.0" rpy="0.0 -0.0 0.0" />
    <parent link="BLOCK" />
  </sensor>
  <link name="BOOM_TORQUE">
  </link>
  <joint name="BOOM_TORQUE_JOINT" type="fixed">
    <origin xyz="0.0 0.0 0.0" rpy="1.57079632679 7.14632589097e-16 3.14159265359" />
    <parent link="BOOM" />
    <child link="BOOM_TORQUE" />
  </joint>
  <sensor name="BOOM_TORQUE_SENSOR" update_rate="20">
    <origin xyz="0.0 0.0 0.0" rpy="1.57079632679 7.14632589097e-16 3.14159265359" />
    <parent link="BOOM" />
  </sensor>
  <link name="ARM_TORQUE">
  </link>
  <joint name="ARM_TORQUE_JOINT" type="fixed">
    <origin xyz="0.0 0.0 0.0" rpy="1.57079632679 7.14632589097e-16 3.14159265359" />
    <parent link="ARM" />
    <child link="ARM_TORQUE" />
  </joint>
  <sensor name="ARM_TORQUE_SENSOR" update_rate="20">
    <origin xyz="0.0 0.0 0.0" rpy="1.57079632679 7.14632589097e-16 3.14159265359" />
    <parent link="ARM" />
  </sensor>
  <link name="HAND_P_TORQUE">
  </link>
  <joint name="HAND_P_TORQUE_JOINT" type="fixed">
    <origin xyz="0.0 0.0 0.0" rpy="1.57079632679 7.14632589097e-16 3.14159265359" />
    <parent link="TOHKU_PITCH" />
    <child link="HAND_P_TORQUE" />
  </joint>
  <sensor name="HAND_P_TORQUE_SENSOR" update_rate="20">
    <origin xyz="0.0 0.0 0.0" rpy="1.57079632679 7.14632589097e-16 3.14159265359" />
    <parent link="TOHKU_PITCH" />
  </sensor>
  <link name="MNP_SWING_TORQUE">
  </link>
  <joint name="MNP_SWING_TORQUE_JOINT" type="fixed">
    <origin xyz="0.0 0.0 0.0" rpy="1.57079632679 -0.0 1.57079632679" />
    <parent link="MNP_SWING" />
    <child link="MNP_SWING_TORQUE" />
  </joint>
  <sensor name="MNP_SWING_TORQUE_SENSOR" update_rate="20">
    <origin xyz="0.0 0.0 0.0" rpy="1.57079632679 -0.0 1.57079632679" />
    <parent link="MNP_SWING" />
  </sensor>
  <link name="MNP_BOOM_TORQUE">
  </link>
  <joint name="MNP_BOOM_TORQUE_JOINT" type="fixed">
    <origin xyz="0.0 0.0 0.0" rpy="7.8859849469e-16 9.95799250103e-17 -1.57079632679" />
    <parent link="MANIBOOM" />
    <child link="MNP_BOOM_TORQUE" />
  </joint>
  <sensor name="MNP_BOOM_TORQUE_SENSOR" update_rate="20">
    <origin xyz="0.0 0.0 0.0" rpy="7.8859849469e-16 9.95799250103e-17 -1.57079632679" />
    <parent link="MANIBOOM" />
  </sensor>
  <link name="MNP_ARM_TORQUE">
  </link>
  <joint name="MNP_ARM_TORQUE_JOINT" type="fixed">
    <origin xyz="0.0 0.0 0.0" rpy="7.8859849469e-16 9.95799250103e-17 -1.57079632679" />
    <parent link="MANIARM" />
    <child link="MNP_ARM_TORQUE" />
  </joint>
  <sensor name="MNP_ARM_TORQUE_SENSOR" update_rate="20">
    <origin xyz="0.0 0.0 0.0" rpy="7.8859849469e-16 9.95799250103e-17 -1.57079632679" />
    <parent link="MANIARM" />
  </sensor>
  <link name="MNP_ELBOW_TORQUE">
  </link>
  <joint name="MNP_ELBOW_TORQUE_JOINT" type="fixed">
    <origin xyz="0.0 0.0 0.0" rpy="7.8859849469e-16 9.95799250103e-17 -1.57079632679" />
    <parent link="MANIELBOW" />
    <child link="MNP_ELBOW_TORQUE" />
  </joint>
  <sensor name="MNP_ELBOW_TORQUE_SENSOR" update_rate="20">
    <origin xyz="0.0 0.0 0.0" rpy="7.8859849469e-16 9.95799250103e-17 -1.57079632679" />
    <parent link="MANIELBOW" />
  </sensor>
  <link name="MNP_YAW_TORQUE">
  </link>
  <joint name="MNP_YAW_TORQUE_JOINT" type="fixed">
    <origin xyz="0.0 0.0 0.0" rpy="3.14159265359 -1.57079632679 0.0" />
    <parent link="YAWJOINT" />
    <child link="MNP_YAW_TORQUE" />
  </joint>
  <sensor name="MNP_YAW_TORQUE_SENSOR" update_rate="20">
    <origin xyz="0.0 0.0 0.0" rpy="3.14159265359 -1.57079632679 0.0" />
    <parent link="YAWJOINT" />
  </sensor>
  <link name="MNP_ROLL_TORQUE">
  </link>
  <joint name="MNP_ROLL_TORQUE_JOINT" type="fixed">
    <origin xyz="0.0 0.0 0.0" rpy="1.57079632679 -2.88998133609e-16 -3.00440511061e-16" />
    <parent link="HANDBASE" />
    <child link="MNP_ROLL_TORQUE" />
  </joint>
  <sensor name="MNP_ROLL_TORQUE_SENSOR" update_rate="20">
    <origin xyz="0.0 0.0 0.0" rpy="1.57079632679 -2.88998133609e-16 -3.00440511061e-16" />
    <parent link="HANDBASE" />
  </sensor>
  <link name="MNP_PUSH_FORCE">
  </link>
  <joint name="MNP_PUSH_FORCE_JOINT" type="fixed">
    <origin xyz="0.0 0.0 0.0" rpy="0.0 -0.0 0.0" />
    <parent link="PUSHROD" />
    <child link="MNP_PUSH_FORCE" />
  </joint>
  <sensor name="MNP_PUSH_FORCE_SENSOR" update_rate="20">
    <origin xyz="0.0 0.0 0.0" rpy="0.0 -0.0 0.0" />
    <parent link="PUSHROD" />
  </sensor>
</robot>
